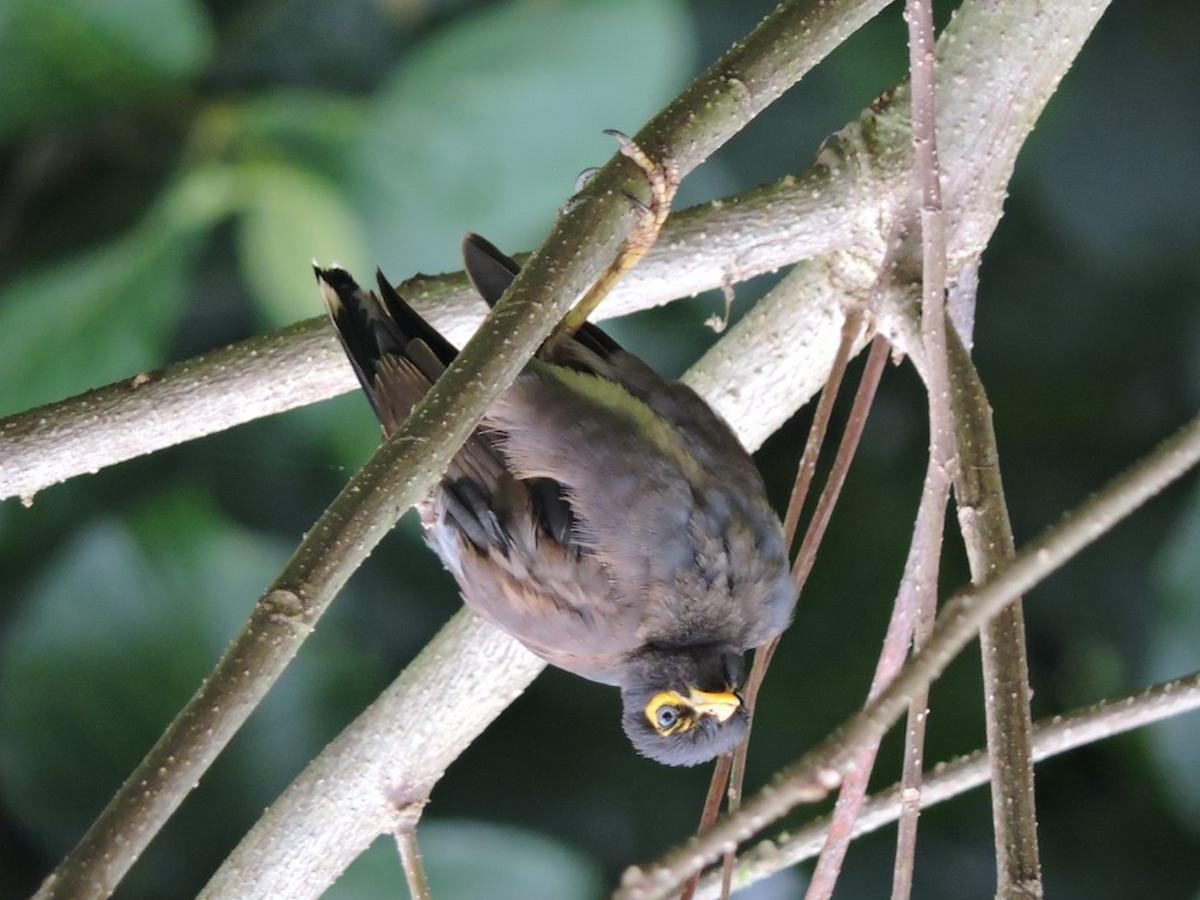myna: (370, 242, 799, 762)
